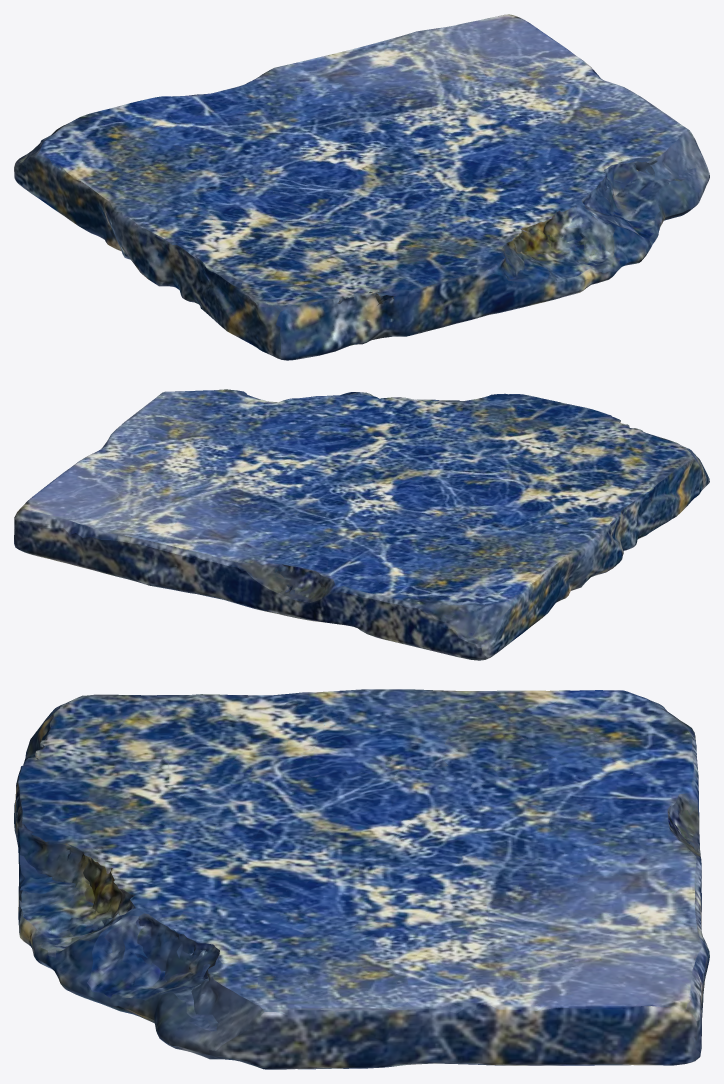
Rendered from remnant-azul.glb.
3 views of the same model, one above another, from view 1: azimuth 30°, elevation 25°; view 2: azimuth 150°, elevation 25°; view 3: azimuth 270°, elevation 25° (orthographic). The views are drawn at different scales.
Visible parts, largest first — view 1: geometry_0; view 2: geometry_0; view 3: geometry_0.
Part boxes in pixels (<box>): geometry_0: <box>14,14,709,360</box>; geometry_0: <box>14,389,709,660</box>; geometry_0: <box>14,689,709,1069</box>.
Bounding box in the file's own units: 0.35 × 0.0314 × 0.3163.
Materials: 1 (1 with a texture image).
